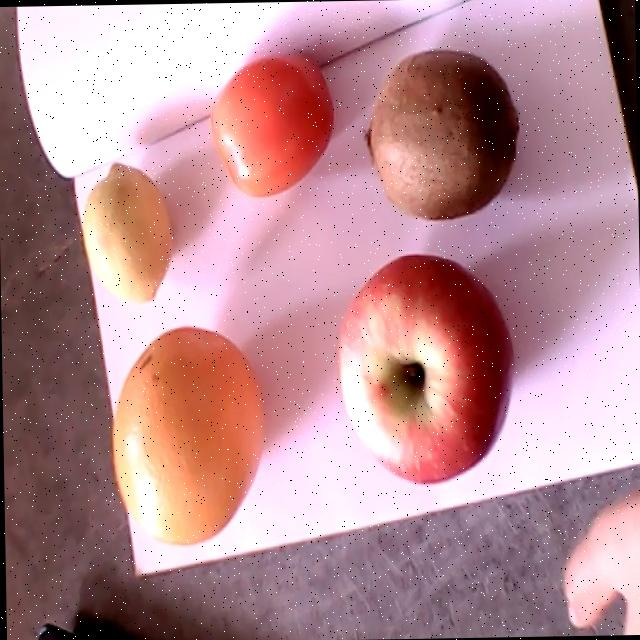apple: (336, 253, 514, 483)
kiwi: (360, 49, 521, 219)
lemon: (80, 160, 172, 302)
orange: (112, 327, 263, 543)
tomato: (207, 50, 333, 196)
